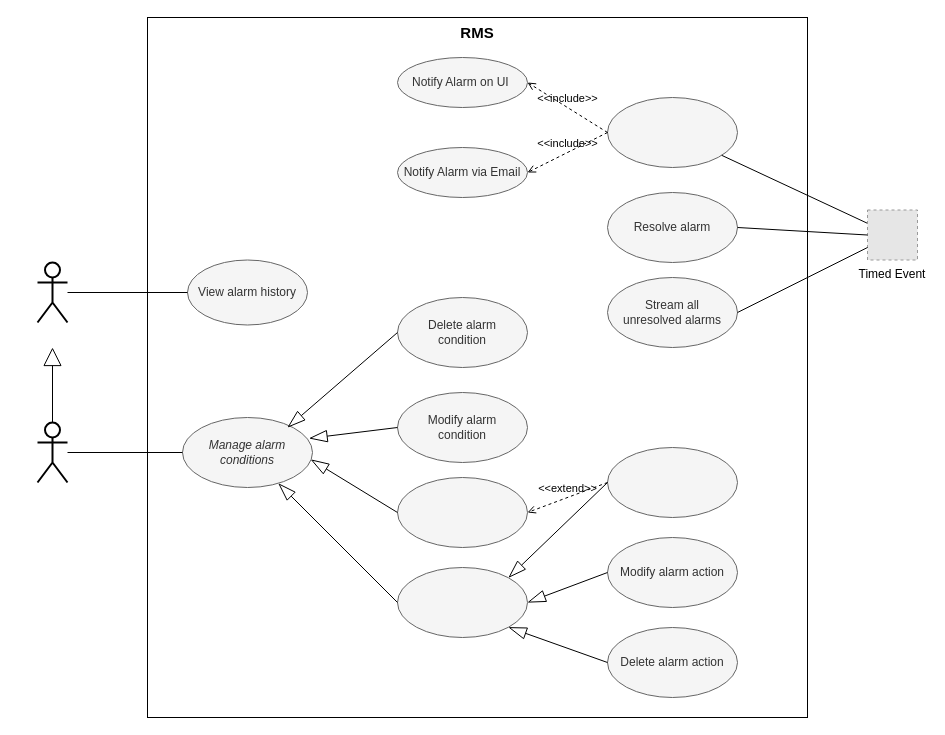
Image size: 945x735. Some labels were removed from this diagram. Grey dashed boxes stand in for pictures. Each missing label, with the centre of its shape:
"Administrator" goes at pixel 52 452.
"Create alarm action" goes at pixel 672 482.
"Create new alarm condition" goes at pixel 462 512.
"Manage alarm actions" goes at pixel 462 602.
"Monitor" goes at pixel 52 292.
"Trigger realtime alarm" goes at pixel 672 132.
